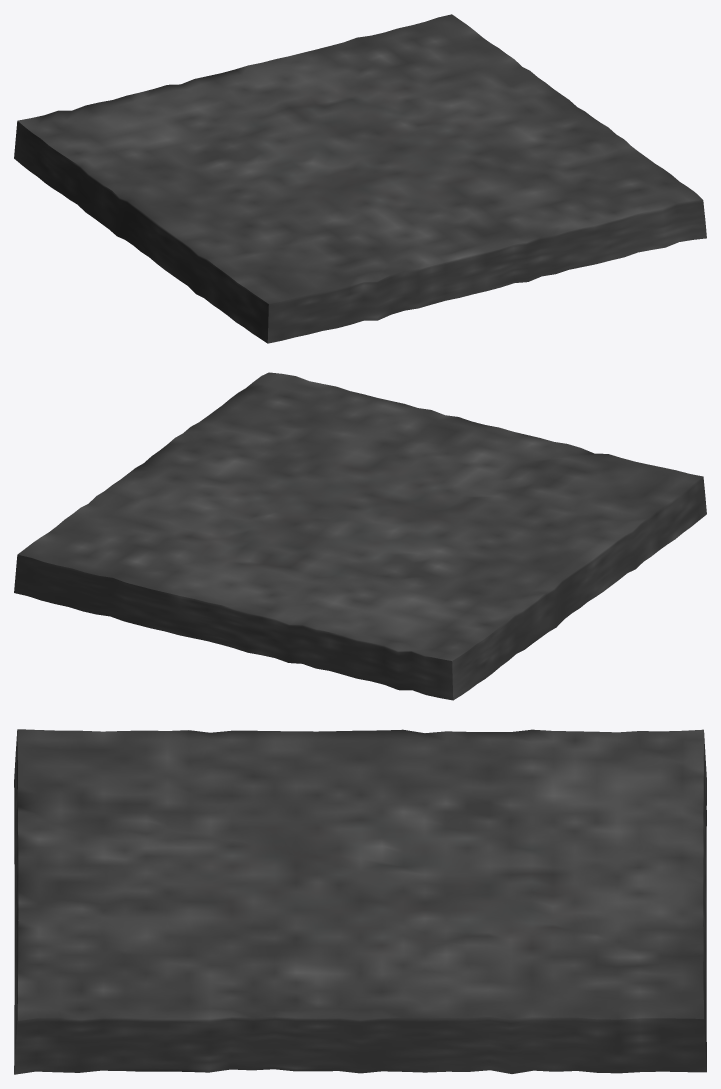
File: floor.FBX
The picture shows the model from 3 angles, top to bottom: view 1: azimuth 30°, elevation 25°; view 2: azimuth 150°, elevation 25°; view 3: azimuth 270°, elevation 25°; orthographic projection. The views are drawn at different scales.
Visible parts, largest first — view 1: floor; view 2: floor; view 3: floor.
Part boxes in pixels (x1,y1,x2,y2): floor: [14, 14, 706, 343]; floor: [14, 372, 706, 700]; floor: [14, 729, 706, 1074].
Size of the model in its own units: 47.56 by 4.88 by 47.57.
1 material, 1 textured.
